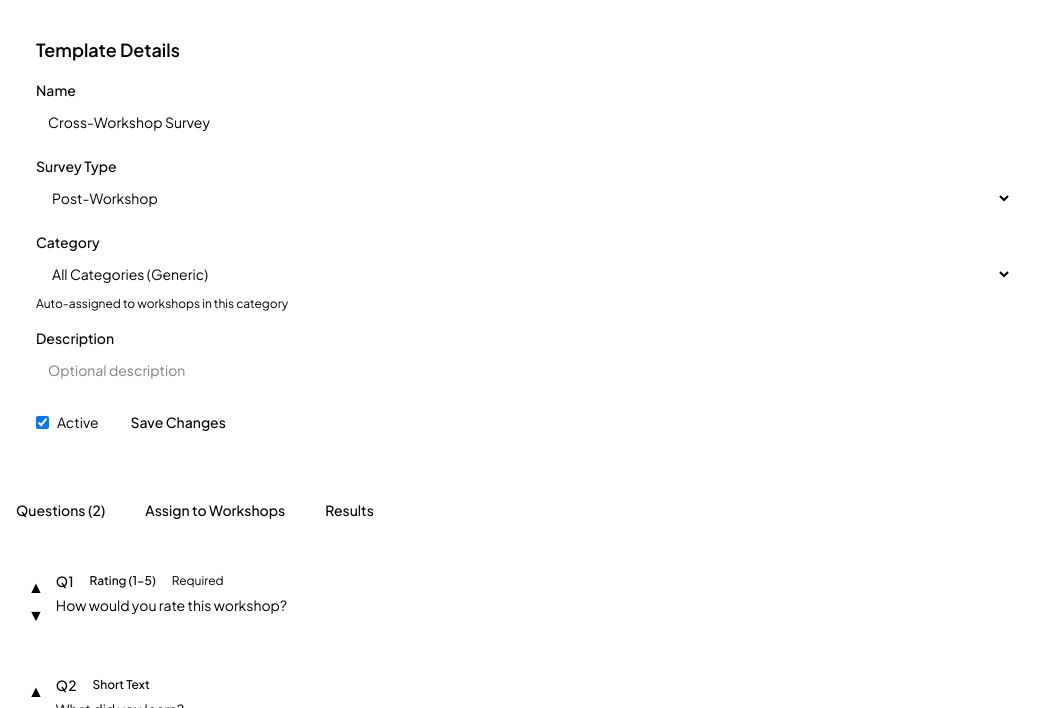
Test: SurveyTemplateEditor Results tab (BUG-MAY13-2 / Task B2) › renders TEXT answers verbatim with respondent attribution — proves the answers + registration + workshop joins are wired
The width and height of the screenshot is (1048, 708).
Click the button "Results" at [350, 510], box [321,488,378,532]
(page scrolled)
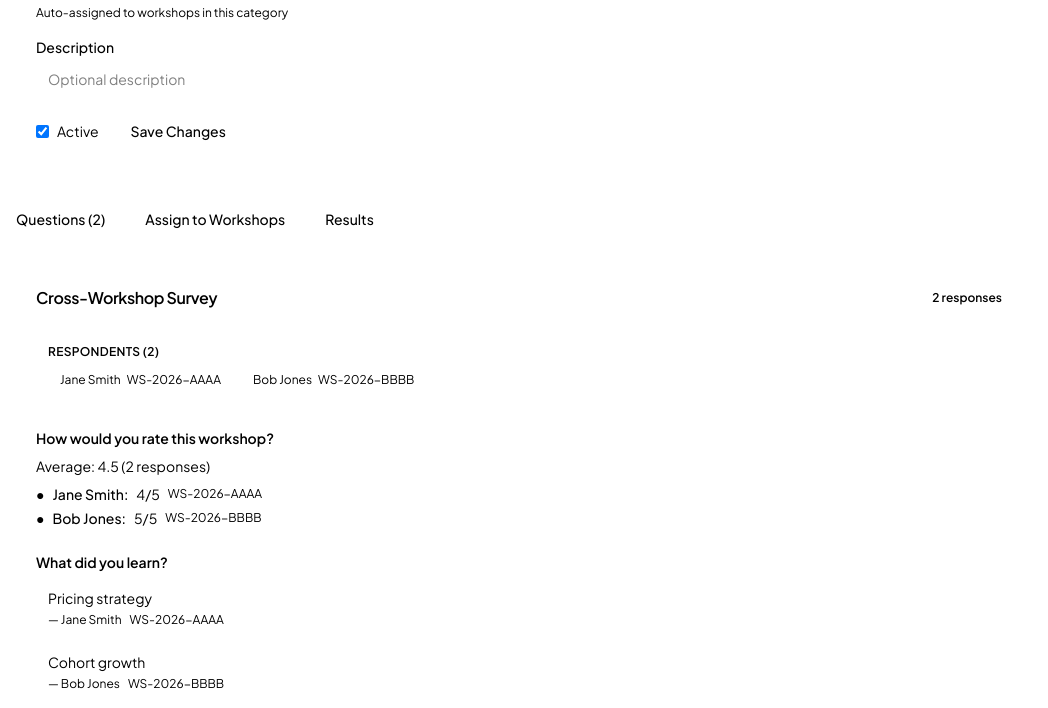
Result: the text "Pricing strategy" is shown at [48,589,152,607]
Result: the text "Cohort growth" is shown at [48,653,145,671]
Result: the text "— Jane Smith" is shown at [48,612,122,628]
